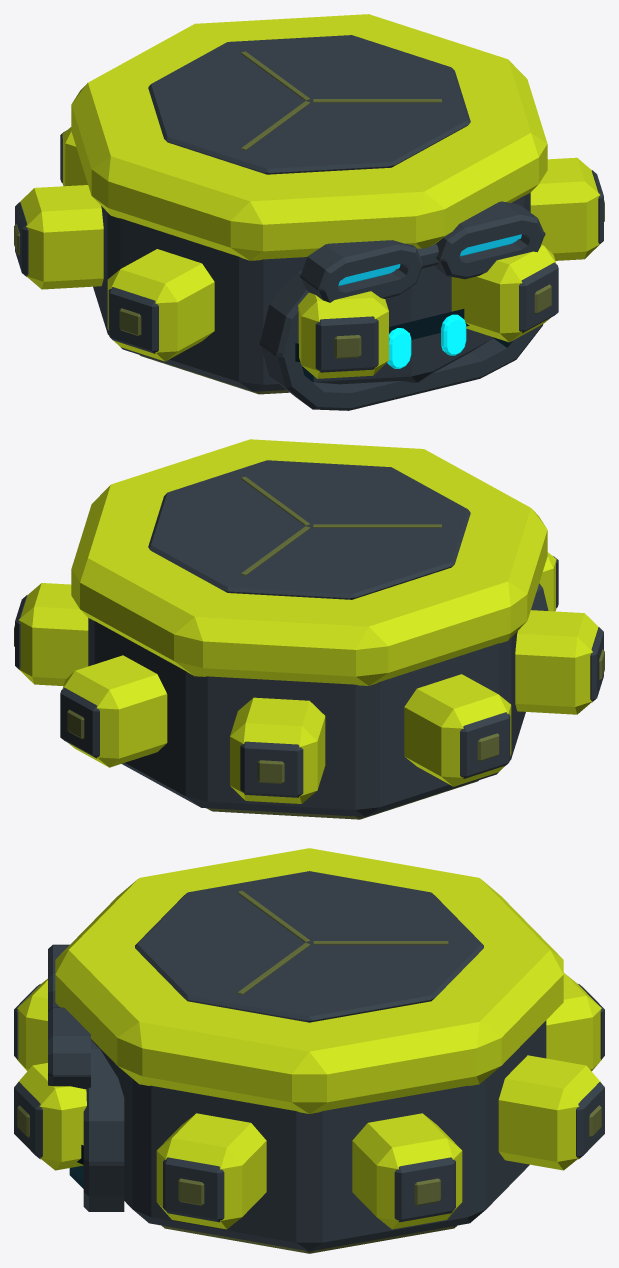
The model's file is linter_agent_v01.glb.
The picture shows the model from 3 angles, top to bottom: view 1: azimuth 30°, elevation 25°; view 2: azimuth 150°, elevation 25°; view 3: azimuth 270°, elevation 25°; orthographic projection. The views are drawn at different scales.
Visible parts, largest first — view 1: linter_agent_model; view 2: linter_agent_model; view 3: linter_agent_model.
Part boxes in pixels (box(x1,y1,x2,y2)): linter_agent_model: box(14, 14, 604, 410); linter_agent_model: box(14, 439, 604, 819); linter_agent_model: box(14, 848, 604, 1253).
Bounding box in the file's own units: 2.49 × 1.06 × 2.49.
2 materials, 2 textured.
